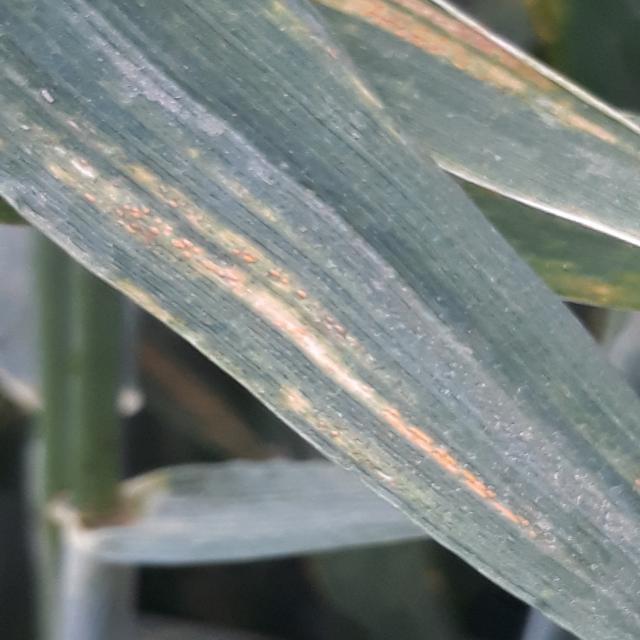yellow_rust: (14, 5, 630, 620)
